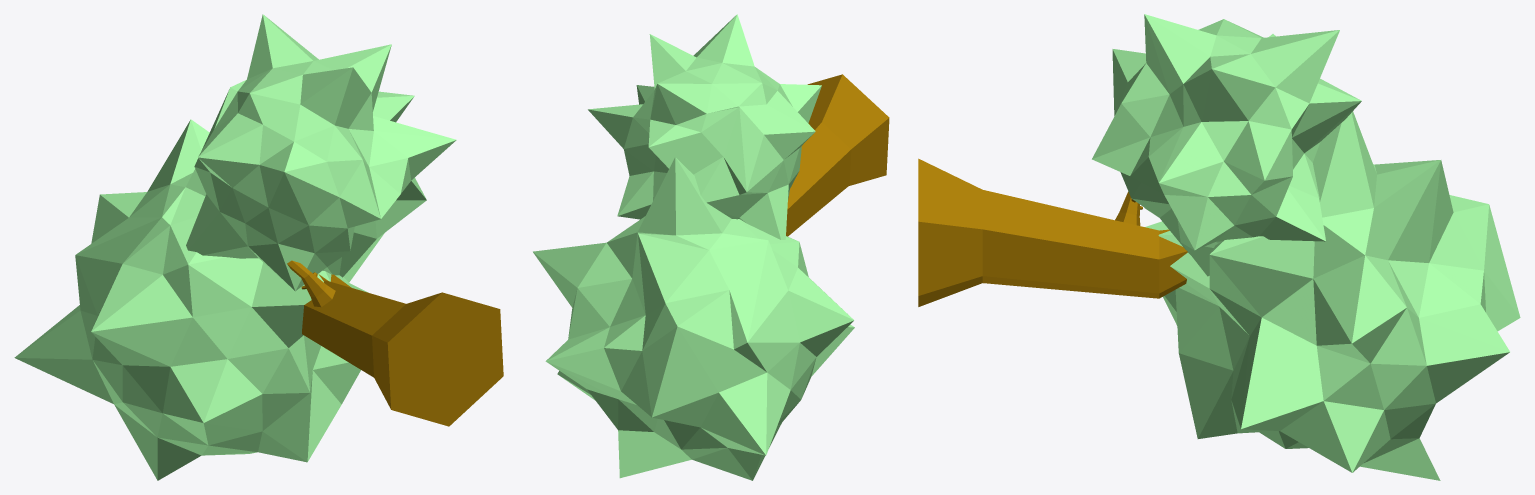
File: tree_03.fbx
3 renders of one model, left to right at view 1: azimuth 30°, elevation 25°; view 2: azimuth 150°, elevation 25°; view 3: azimuth 270°, elevation 25°, orthographic. The views are drawn at different scales.
Visible parts, largest first — view 1: Mesh90, Mesh89, Mesh88; view 2: Mesh90, Mesh89, Mesh88; view 3: Mesh90, Mesh89, Mesh88.
Part boxes in pixels (bbox=[...]): Mesh90: bbox=[14, 119, 384, 480]; Mesh89: bbox=[186, 14, 456, 291]; Mesh88: bbox=[287, 260, 503, 426]; Mesh90: bbox=[533, 157, 854, 480]; Mesh89: bbox=[588, 14, 821, 239]; Mesh88: bbox=[786, 74, 889, 236]; Mesh90: bbox=[1145, 111, 1520, 480]; Mesh89: bbox=[1092, 14, 1361, 276]; Mesh88: bbox=[918, 158, 1187, 306].
Size of the model in its own units: 2245 by 2851 by 3220.
